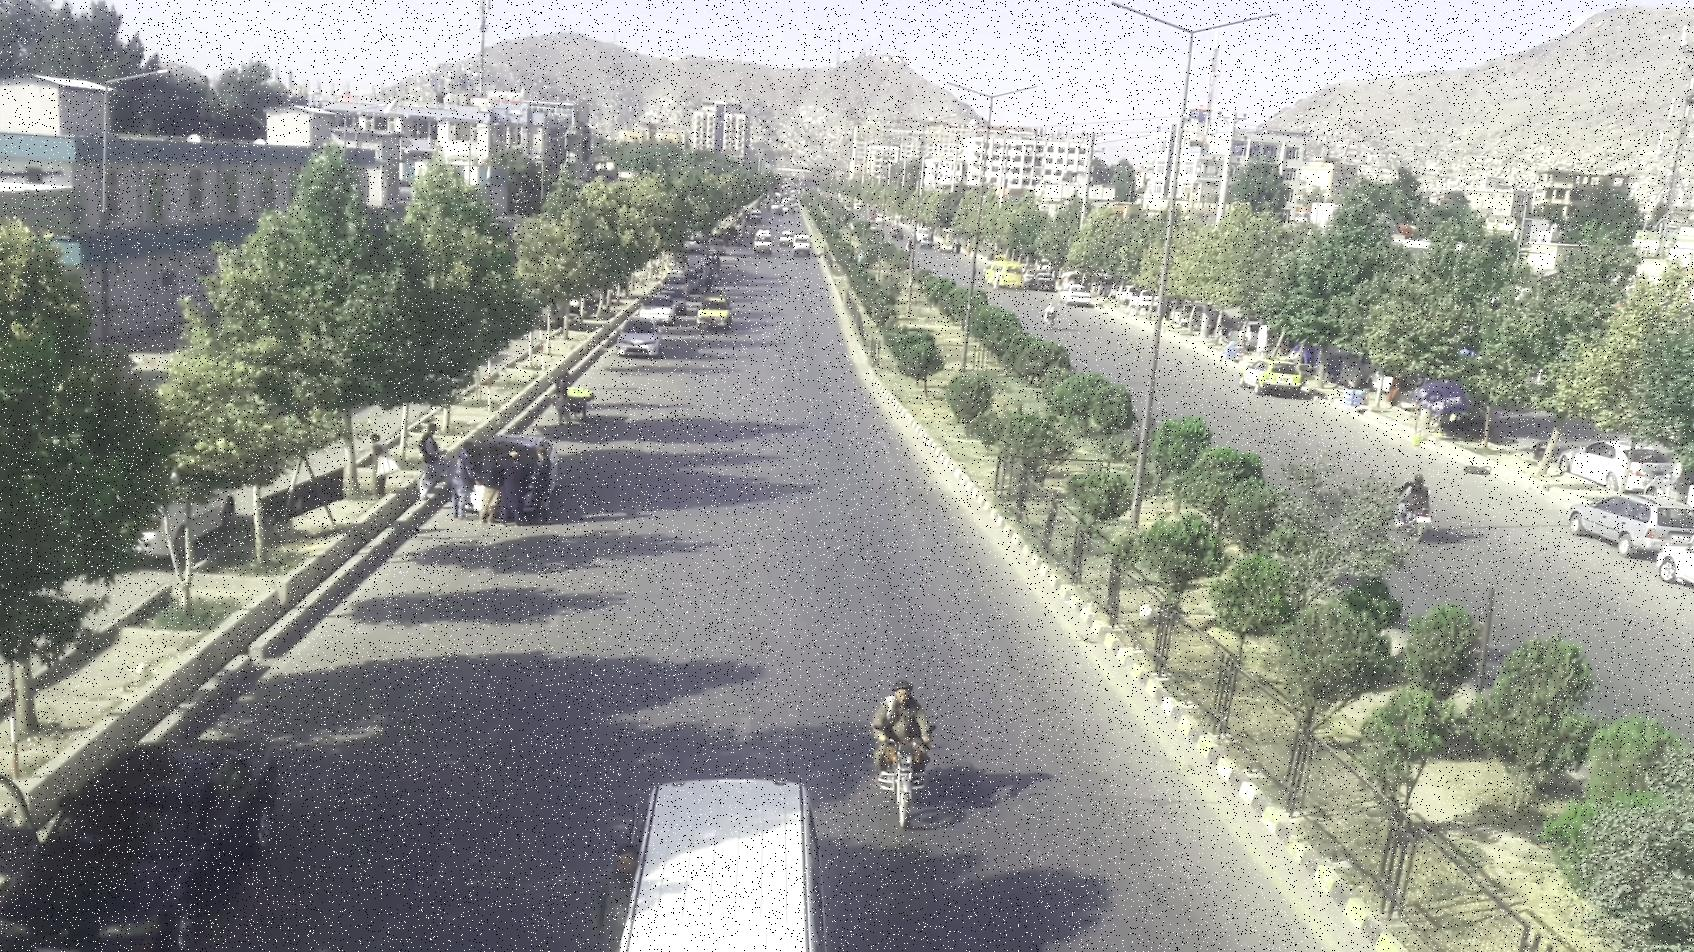car: (1570, 491, 1694, 557), (1658, 535, 1694, 620), (620, 324, 665, 357)
